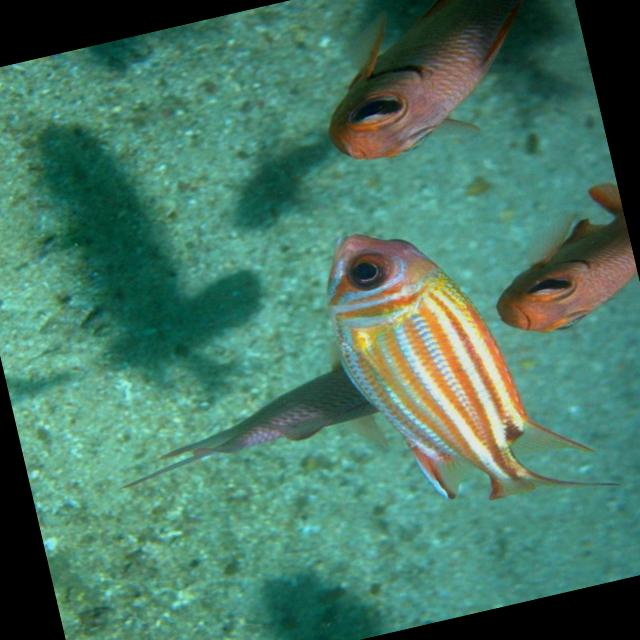Asker Baligi: (306, 178, 578, 542), (296, 0, 591, 170)
